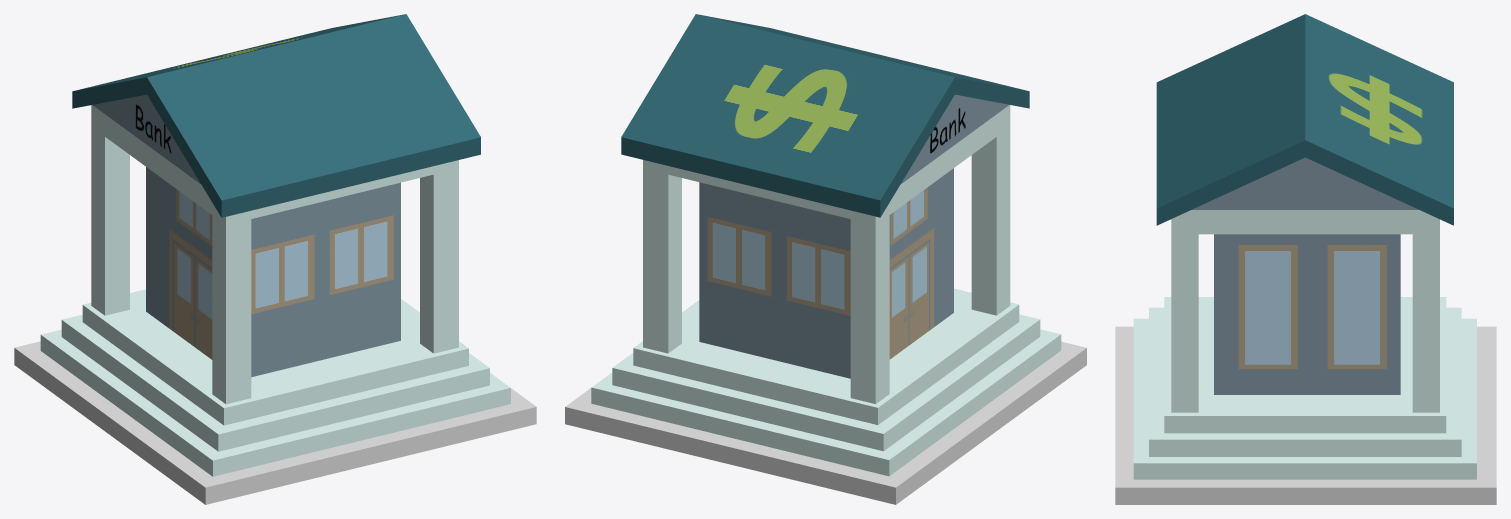
File: Bank01_1.FBX
3 views of the same model, side by side, from view 1: azimuth 30°, elevation 25°; view 2: azimuth 150°, elevation 25°; view 3: azimuth 270°, elevation 25° (orthographic).
Visible parts, largest first — view 1: Box004, Box001; view 2: Box004, Box001; view 3: Box004, Box001.
Boxes of the visible parts, x1,y1,x2,y2 form: Box004: (40, 14, 510, 476); Box001: (14, 341, 536, 504); Box004: (591, 14, 1061, 476); Box001: (565, 341, 1086, 504); Box004: (1133, 14, 1476, 479); Box001: (1115, 326, 1496, 504).
Bounding box in the file's own units: 1 × 1.01 × 1.
Materials: 4 (4 with a texture image).
